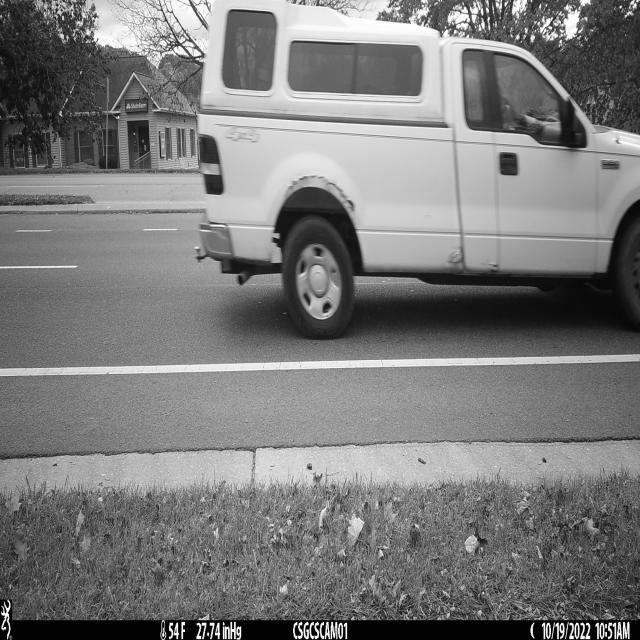Pickup: (194, 0, 640, 342)
